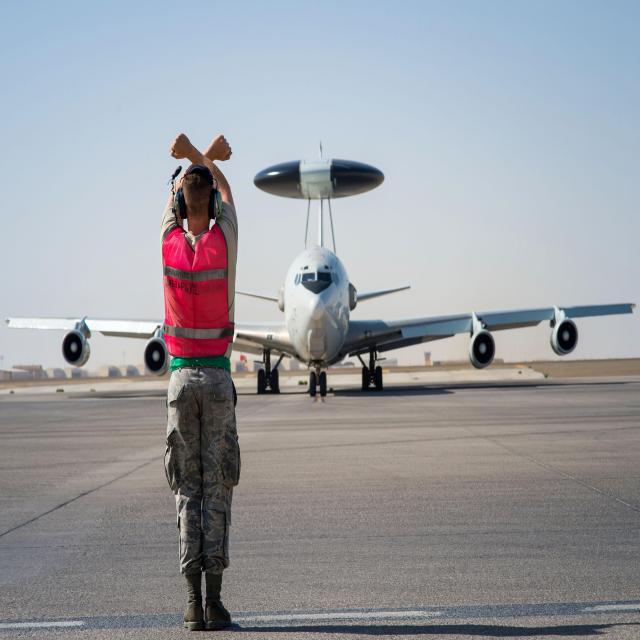vest: (157, 217, 239, 367)
